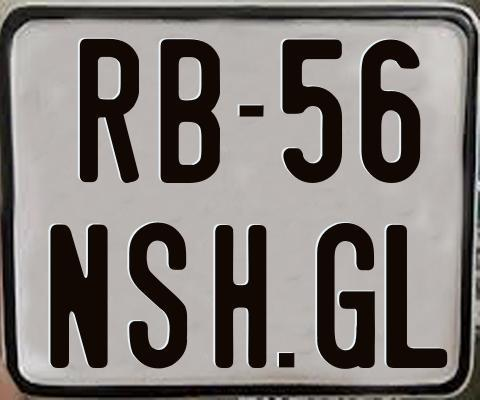5: (279, 36, 340, 183)
6: (360, 39, 422, 189)
B: (159, 36, 219, 181)
G: (314, 221, 375, 370)
H: (215, 224, 269, 367)
L: (384, 222, 450, 366)
N: (48, 222, 112, 368)
R: (80, 38, 139, 183)
S: (126, 220, 186, 368)
